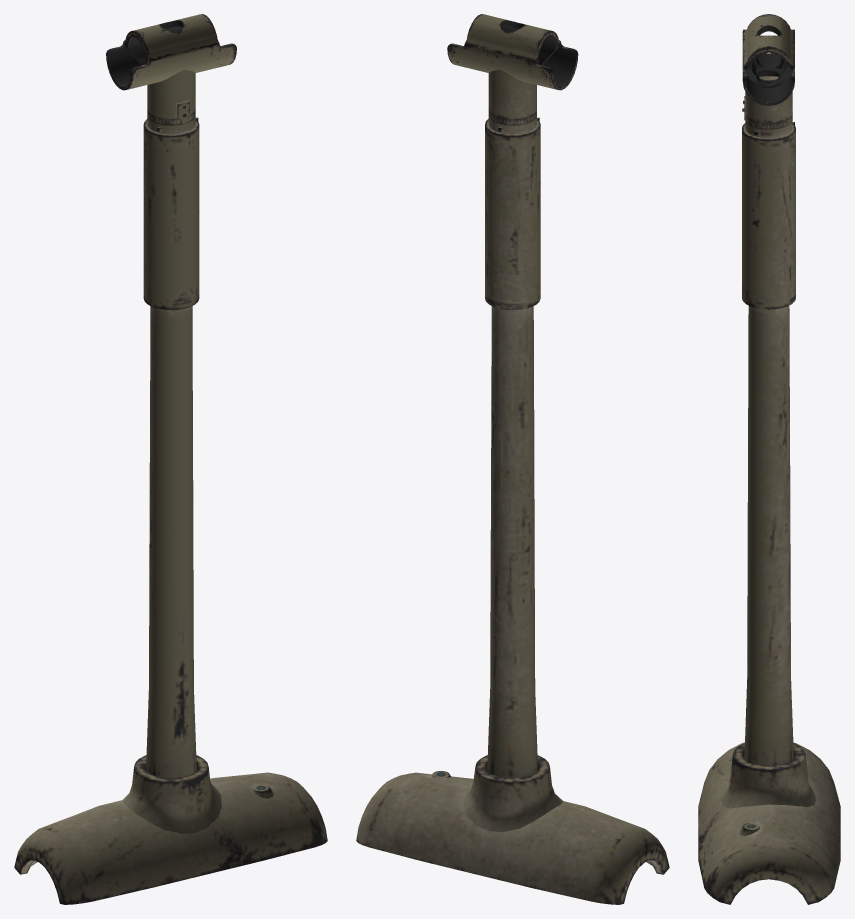
File: Gun_05.glb
3 views of the same model, side by side, from view 1: azimuth 30°, elevation 25°; view 2: azimuth 150°, elevation 25°; view 3: azimuth 270°, elevation 25° (orthographic). The views are drawn at different scales.
Parts seen in each view (by area): view 1: set_0_group_0; view 2: set_0_group_0; view 3: set_0_group_0.
Boxes of the visible parts, bbox=[...] form: set_0_group_0: bbox=[14, 14, 327, 904]; set_0_group_0: bbox=[356, 14, 669, 904]; set_0_group_0: bbox=[698, 14, 840, 904].
Bounding box in the file's own units: 1.14 × 3.45 × 0.5478.
Materials: 1 (1 with a texture image).
